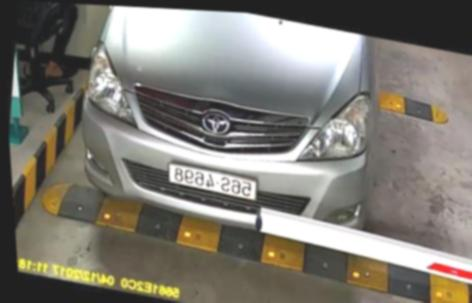License_Plate: (163, 156, 272, 203)
